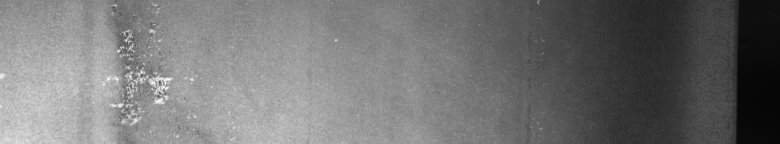hc: (103, 4, 202, 128)
